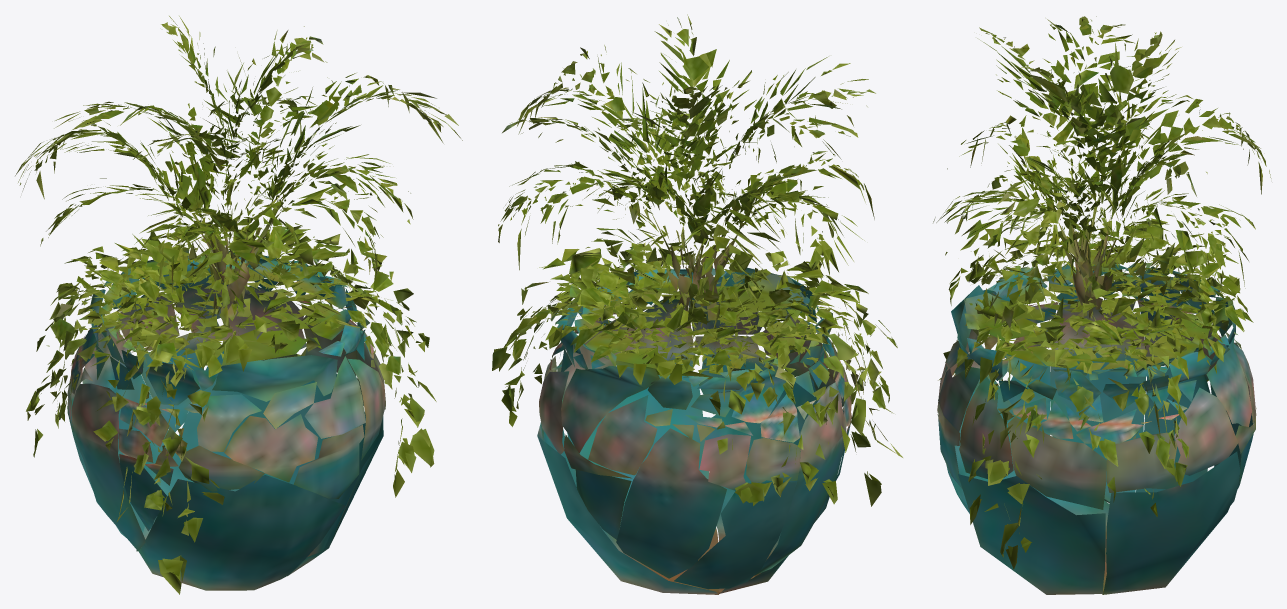
The model's file is planter-palm.glb.
3 views of the same model, side by side, from view 1: azimuth 30°, elevation 25°; view 2: azimuth 150°, elevation 25°; view 3: azimuth 270°, elevation 25° (orthographic).
Parts seen in each view (by area): view 1: Mesh_0; view 2: Mesh_0; view 3: Mesh_0.
Boxes of the visible parts, x1,y1,x2,y2 form: Mesh_0: (15, 16, 462, 594); Mesh_0: (492, 14, 902, 594); Mesh_0: (933, 16, 1271, 594).
Bounding box in the file's own units: 1.41 × 1.89 × 1.11.
1 material, 1 textured.
